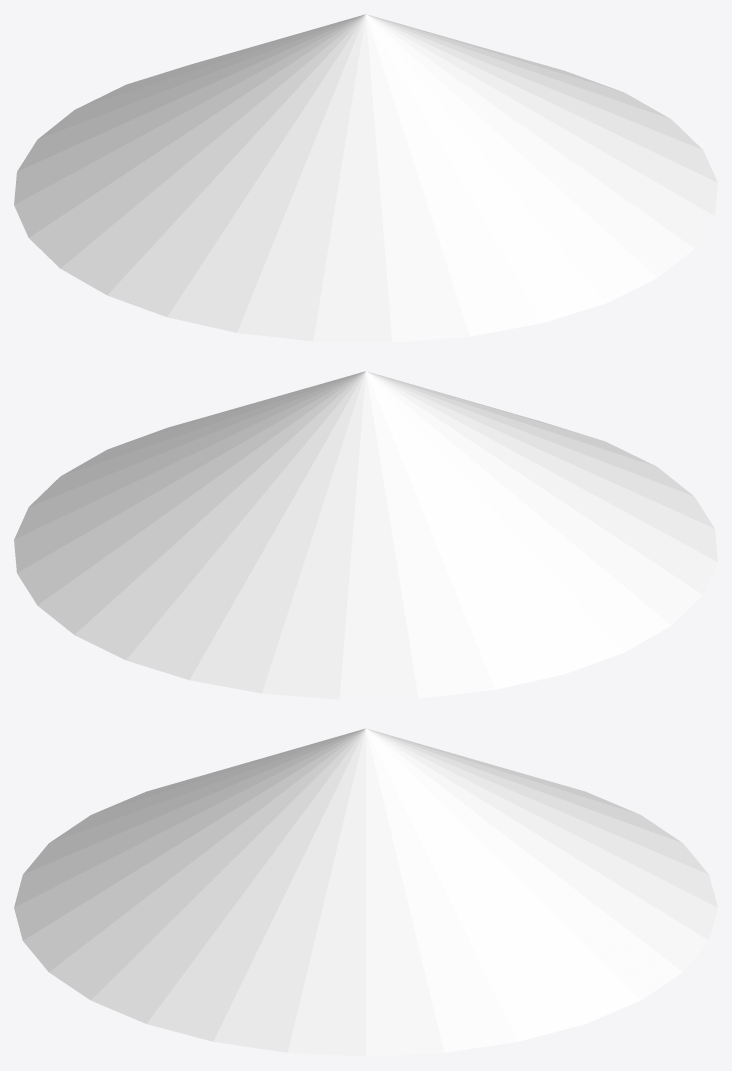
File: Map4.obj
3 views of the same model, one above another, from view 1: azimuth 30°, elevation 25°; view 2: azimuth 150°, elevation 25°; view 3: azimuth 270°, elevation 25° (orthographic).
Size of the model in its own units: 342 by 126 by 342.
